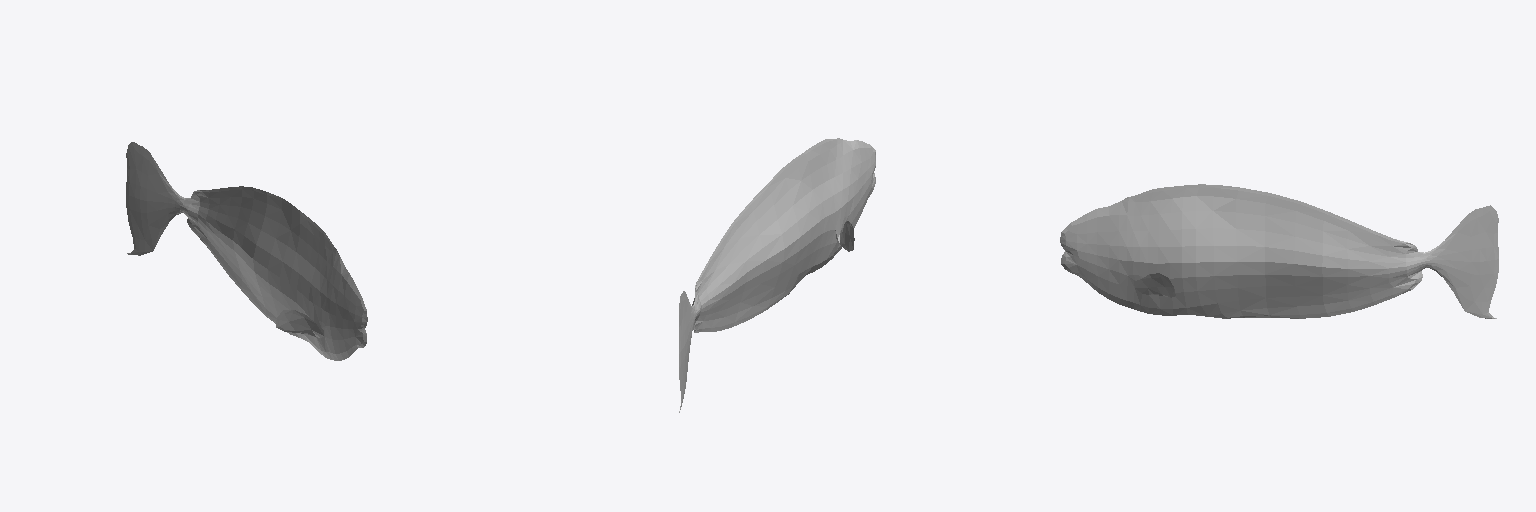
File: reeffish20.obj
3 renders of one model, left to right at view 1: azimuth 30°, elevation 25°; view 2: azimuth 150°, elevation 25°; view 3: azimuth 270°, elevation 25°, orthographic.
Parts seen in each view (by area): view 1: Plane; view 2: Plane; view 3: Plane.
Part boxes in pixels (left/top/right/bottom): Plane: left=126, top=142, right=367, bottom=360; Plane: left=679, top=138, right=875, bottom=412; Plane: left=1060, top=184, right=1498, bottom=318.
Bounding box in the file's own units: 1.62 × 3.44 × 9.31.